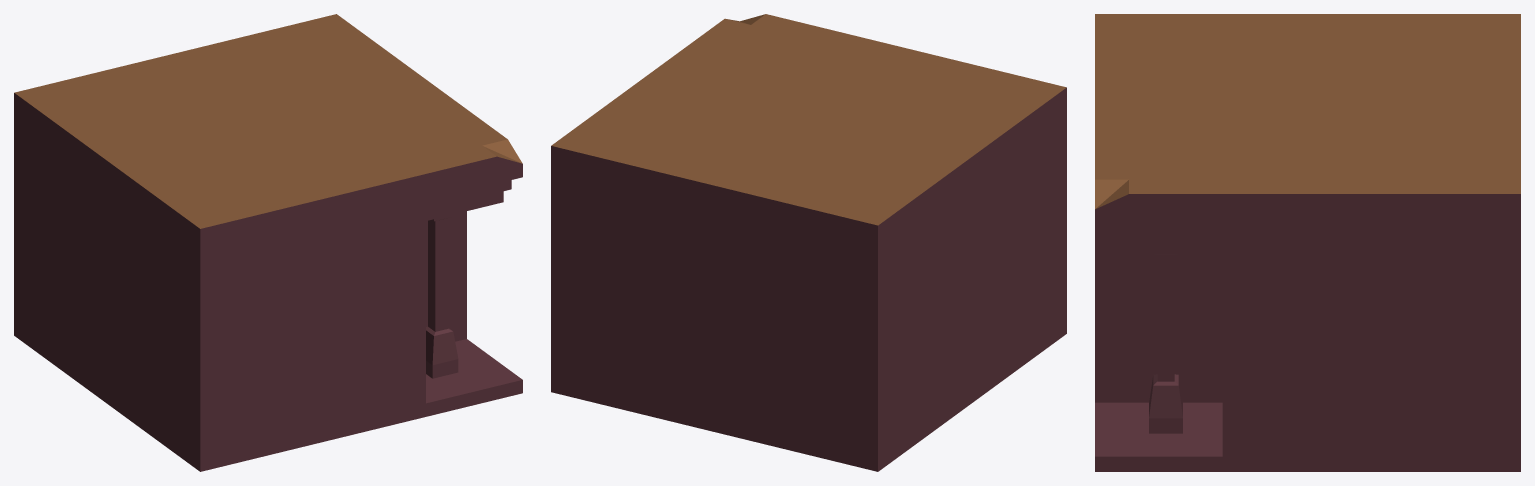
The model's file is india-hindu-wall-interior-corner.glb.
3 renders of one model, left to right at view 1: azimuth 30°, elevation 25°; view 2: azimuth 150°, elevation 25°; view 3: azimuth 270°, elevation 25°, orthographic. The views are drawn at different scales.
Parts seen in each view (by area): view 1: hindu-wall-interior-corner; view 2: hindu-wall-interior-corner; view 3: hindu-wall-interior-corner.
Part boxes in pixels (box(x1,y1,x2,y2)): hindu-wall-interior-corner: box(14, 14, 522, 471); hindu-wall-interior-corner: box(551, 14, 1066, 471); hindu-wall-interior-corner: box(1095, 14, 1520, 471).
Bounding box in the file's own units: 5 × 3.6 × 5.
